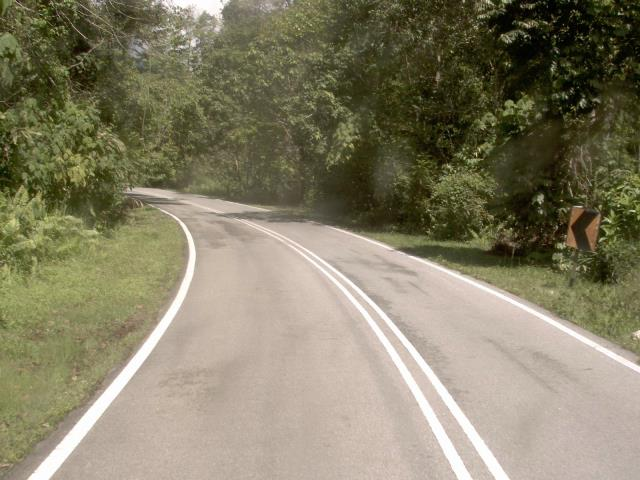traffic_sign: (557, 199, 613, 261)
